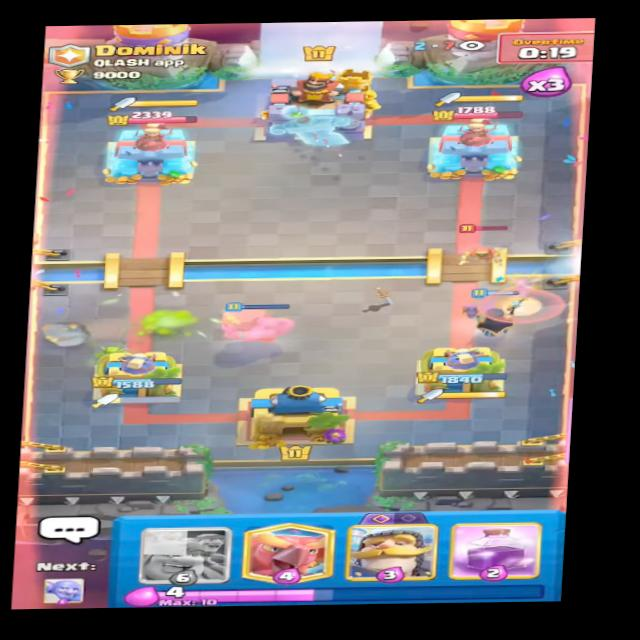Arrows: (279, 124, 392, 177)
Wizard: (455, 220, 517, 262)
